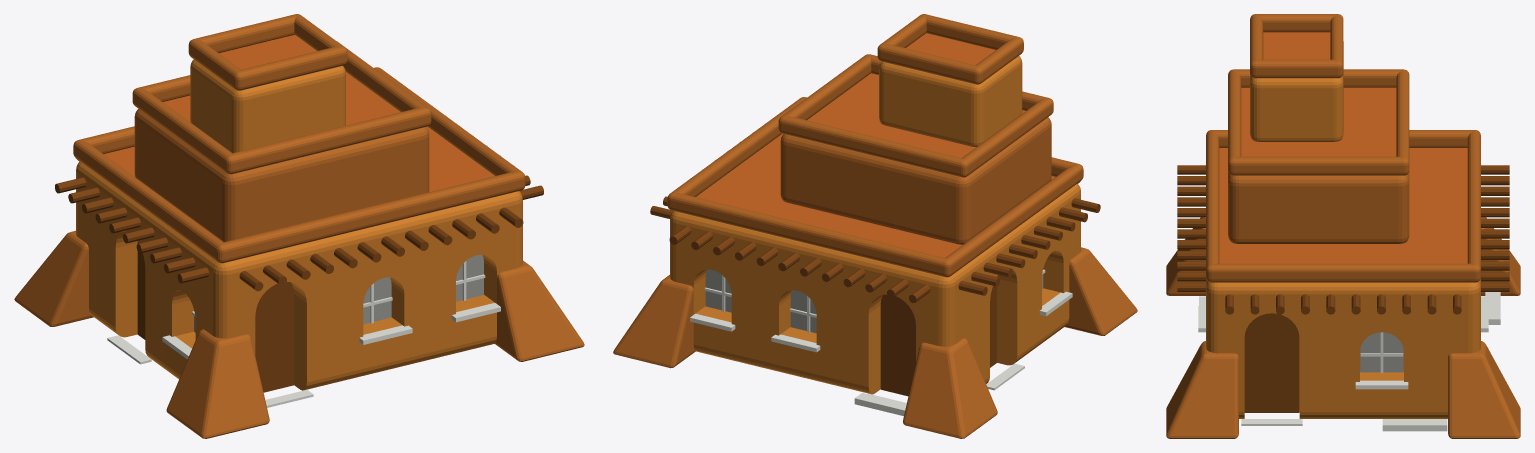
The model's file is openscad_miniature-brick-lumber-house_L5_Q1__opus55.glb.
The picture shows the model from 3 angles, left to right: view 1: azimuth 30°, elevation 25°; view 2: azimuth 150°, elevation 25°; view 3: azimuth 270°, elevation 25°; orthographic projection. The views are drawn at different scales.
Visible parts, largest first — view 1: object; view 2: object; view 3: object.
Part boxes in pixels (box(x1,y1,x2,y2)): object: box(14, 14, 584, 438); object: box(613, 14, 1137, 438); object: box(1166, 14, 1520, 438).
Size of the model in its own units: 745 by 582 by 645.
